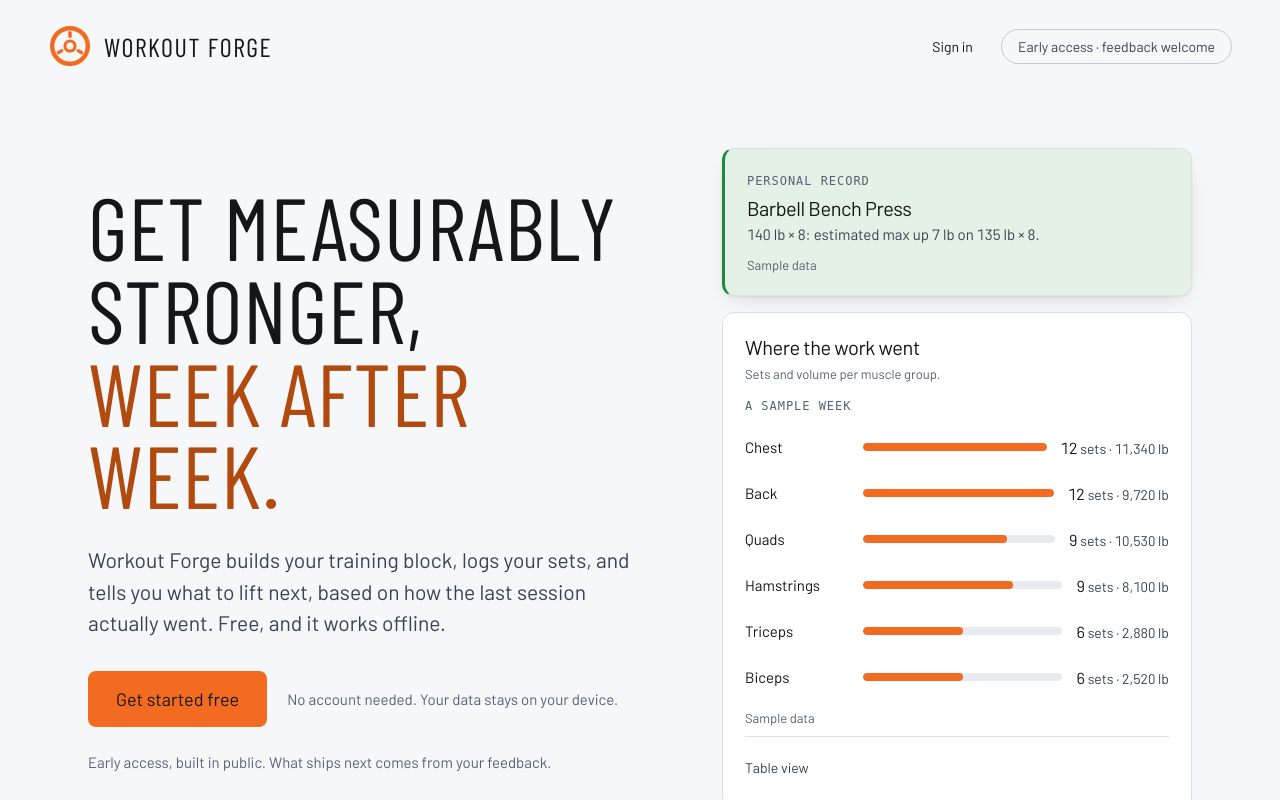
Scenario: setup: the goal card › offers three goals as optional toggle buttons, none selected
Click the button "Get started free".
click(178, 699)  # box [88,671,267,727]
(page scrolled)
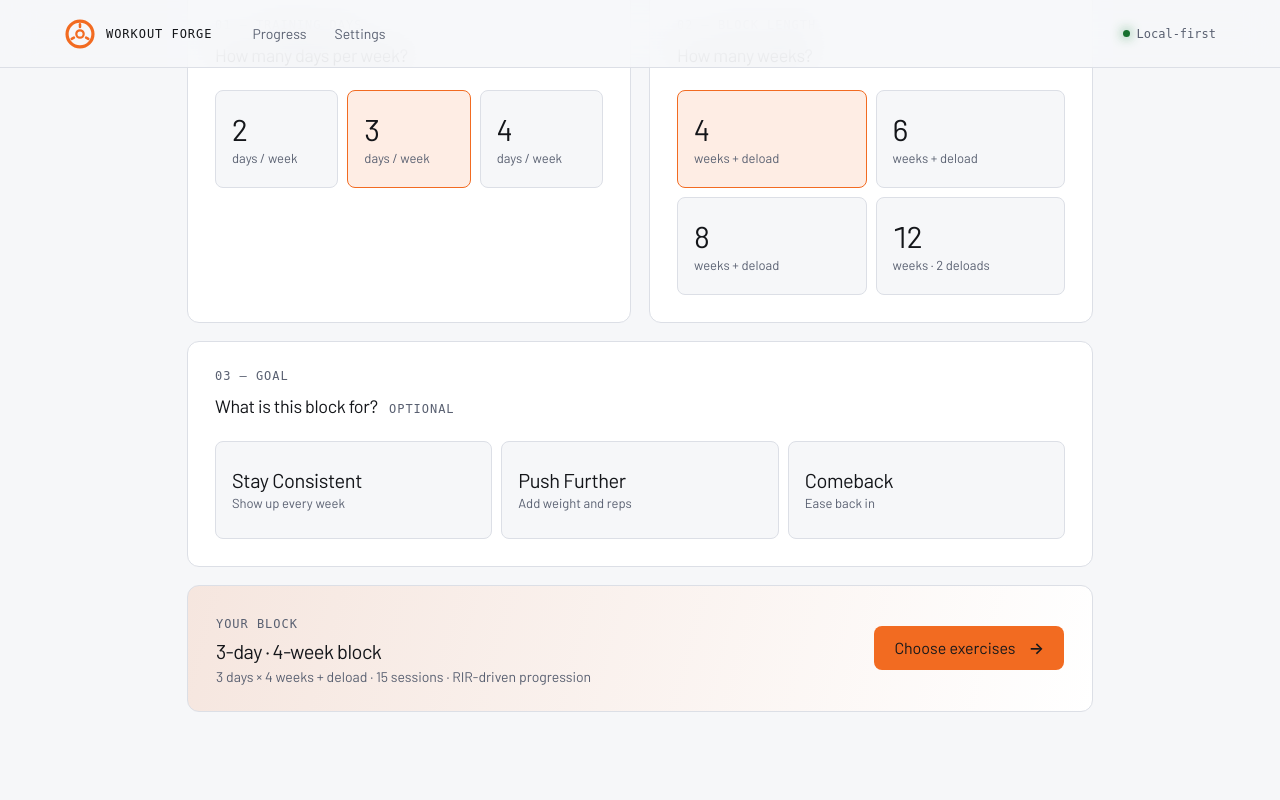
Expected: the text "Optional" is shown, [389,402,455,416]
Expected: the text "03 — Goal" is shown, [215,369,289,383]
